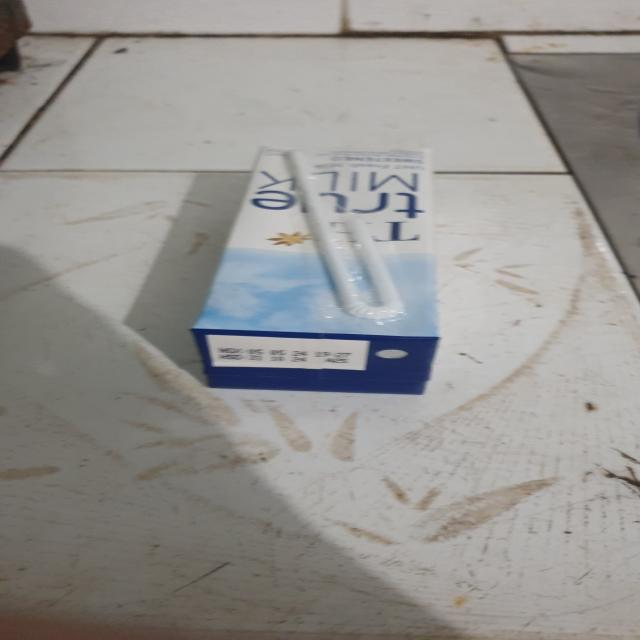TH: (185, 142, 453, 401)
